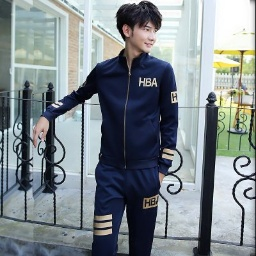face: (117, 1, 163, 53)
